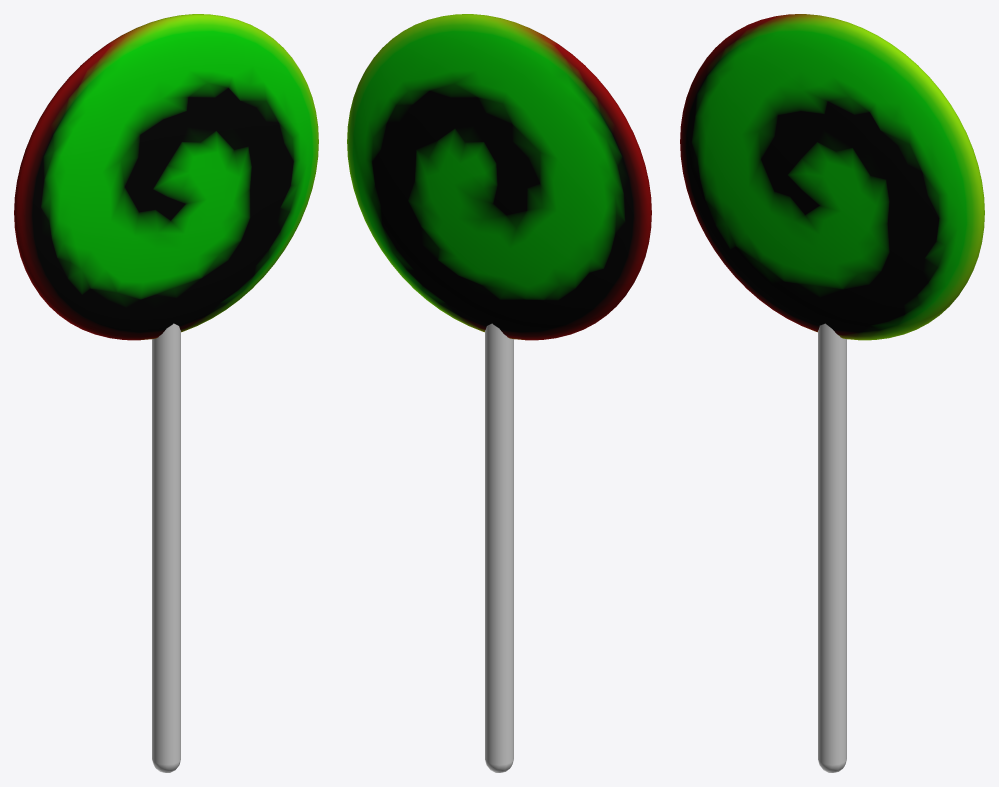
Rendered from bg-candy-a.glb.
3 views of the same model, side by side, from view 1: azimuth 30°, elevation 25°; view 2: azimuth 150°, elevation 25°; view 3: azimuth 330°, elevation 25° (orthographic).
Visible parts, largest first — view 1: candy, stick; view 2: candy, stick; view 3: candy, stick.
Boxes of the visible parts, x1,y1,x2,y2 form: candy: (14,14,318,340); stick: (152,323,180,772); candy: (347,14,651,340); stick: (485,323,513,772); candy: (680,14,984,340); stick: (818,323,846,772).
Size of the model in its own units: 6 by 14.25 by 1.1.
